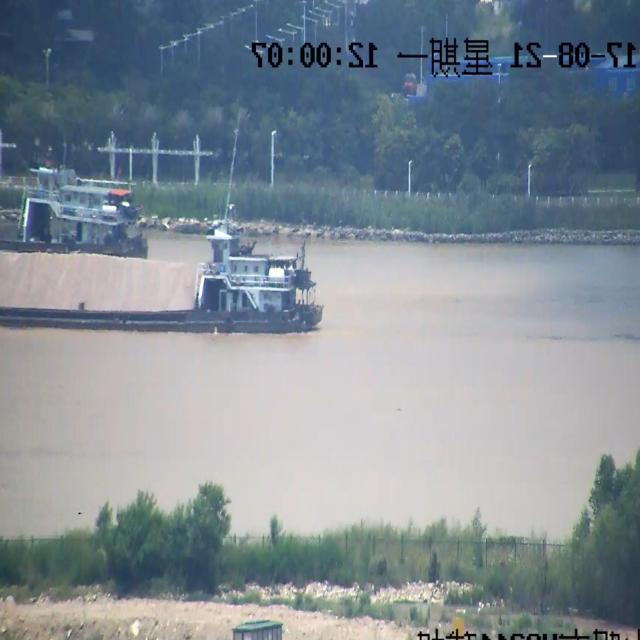cargoship: (0, 185, 335, 348)
